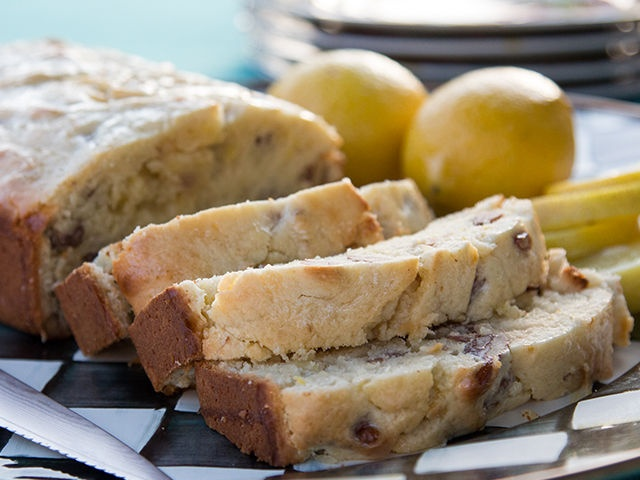background: (0, 28, 640, 353)
